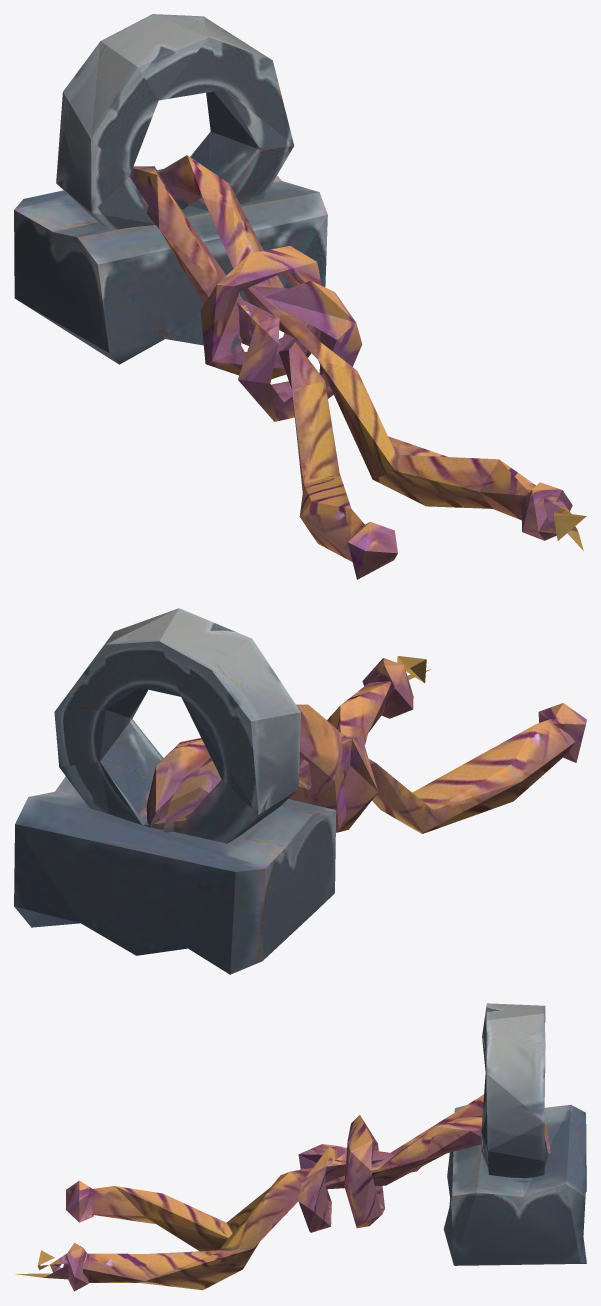
Rendered from a-ancre-semis.glb.
The picture shows the model from 3 angles, top to bottom: view 1: azimuth 30°, elevation 25°; view 2: azimuth 150°, elevation 25°; view 3: azimuth 270°, elevation 25°; orthographic projection. The views are drawn at different scales.
Parts seen in each view (by area): view 1: a-ancre-semis; view 2: a-ancre-semis; view 3: a-ancre-semis.
Boxes of the visible parts, x1,y1,x2,y2 form: a-ancre-semis: (14,14,586,579); a-ancre-semis: (14,608,586,974); a-ancre-semis: (15,1003,586,1291).
Size of the model in its own units: 0.7132 by 0.9506 by 1.91.
Materials: 1 (1 with a texture image).
